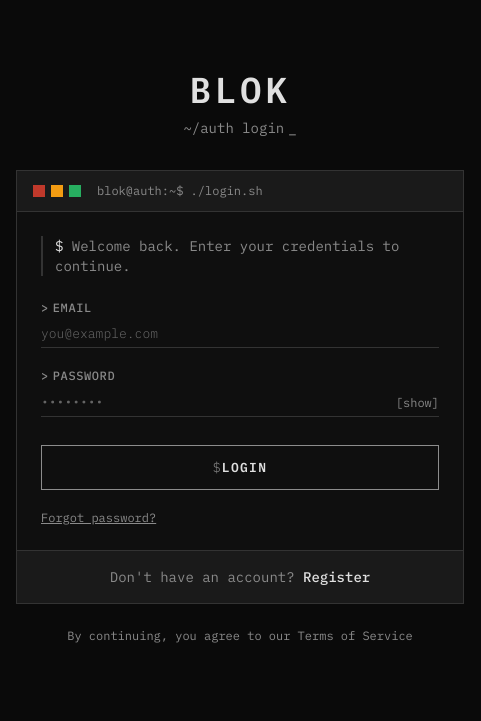
Test: client-side validation › shows password too short error (< 6 chars)
This screenshot has width=481, height=721.
Click the button "Register": (337, 577) [303,567,370,587]
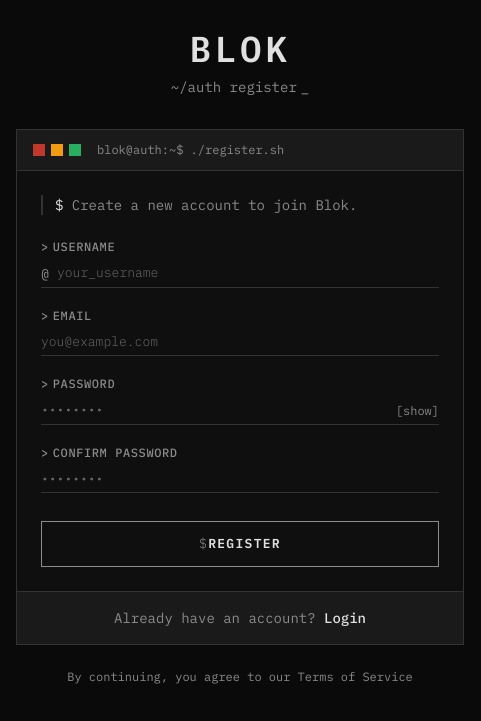
In the field with placeholder "your_username": (240, 274) [41,259,439,288], type "alice"
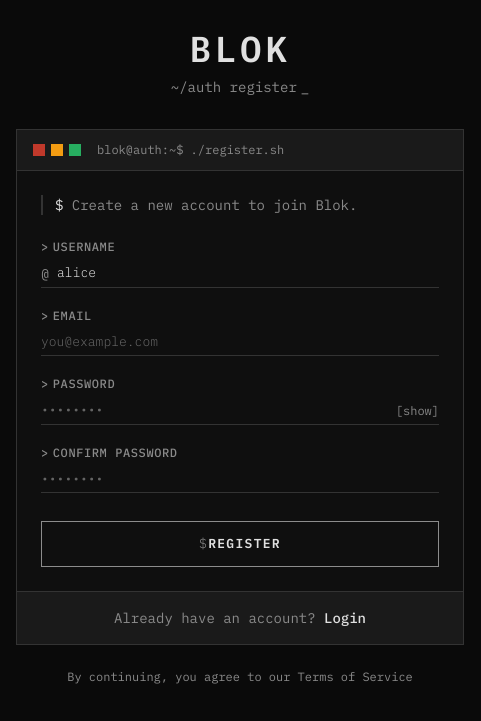
In the field with placeholder "you@example.com": (240, 342) [41,328,439,356], type "a@b.com"
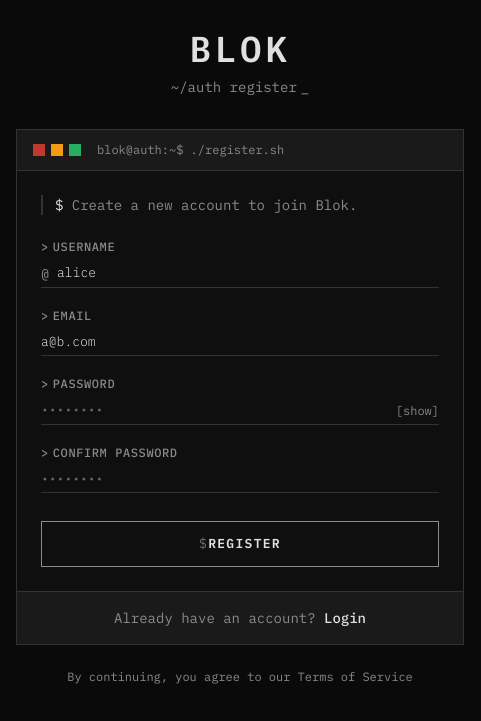
In the 1st password field with placeholder "••••••••": (240, 411) [41,396,439,425], type "123"
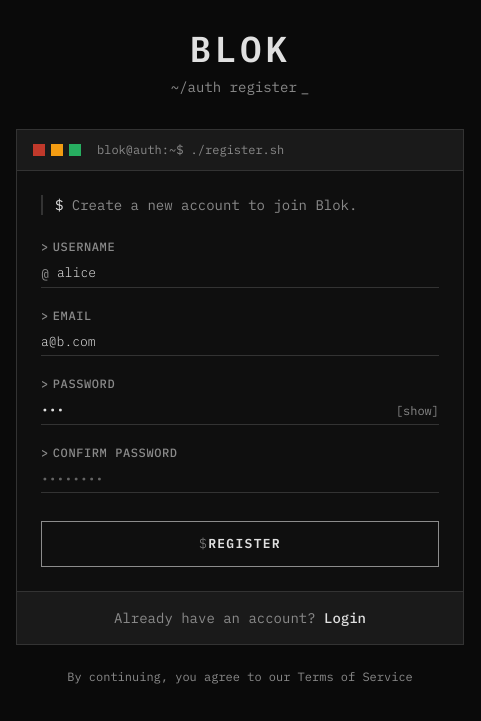
In the password field with placeholder "••••••••": (240, 479) [41,465,439,493], type "123"
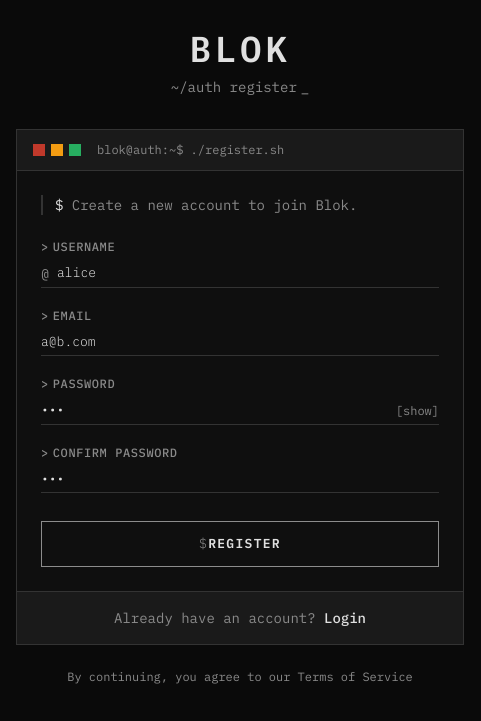
Submit the form from the button "Register", box [41,521,439,567]
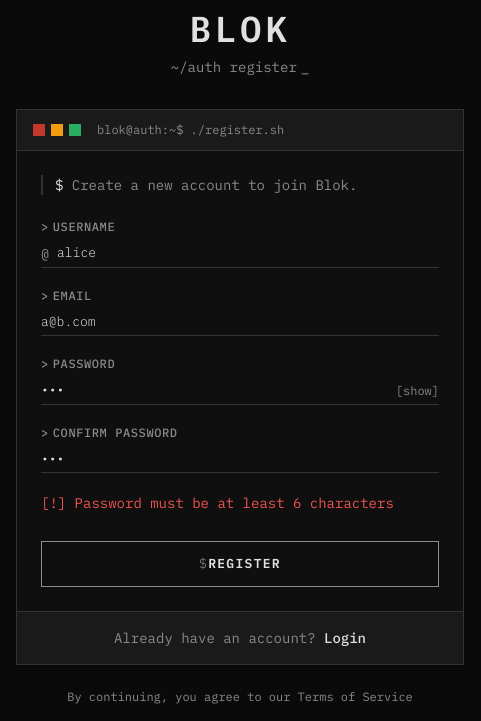
Result: the text "Password must be at least 6 characters" is shown at [75,494,394,512]
